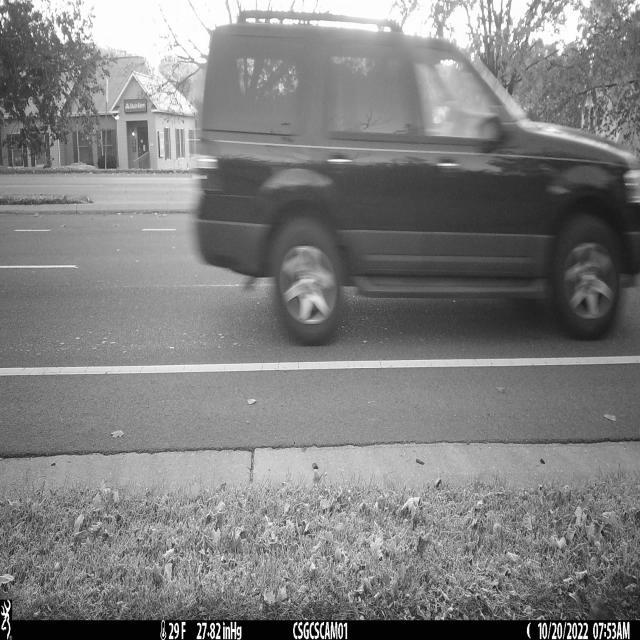SUV: (191, 11, 640, 349)
